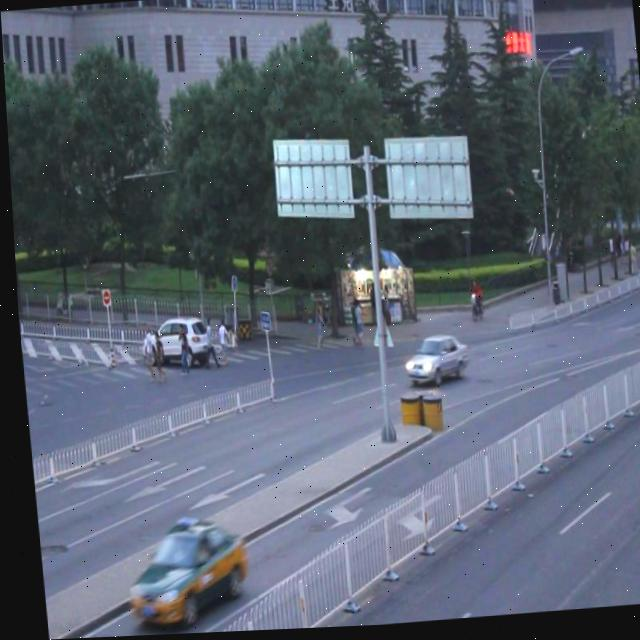car: (116, 519, 243, 631), (398, 332, 465, 391), (135, 314, 206, 369)
